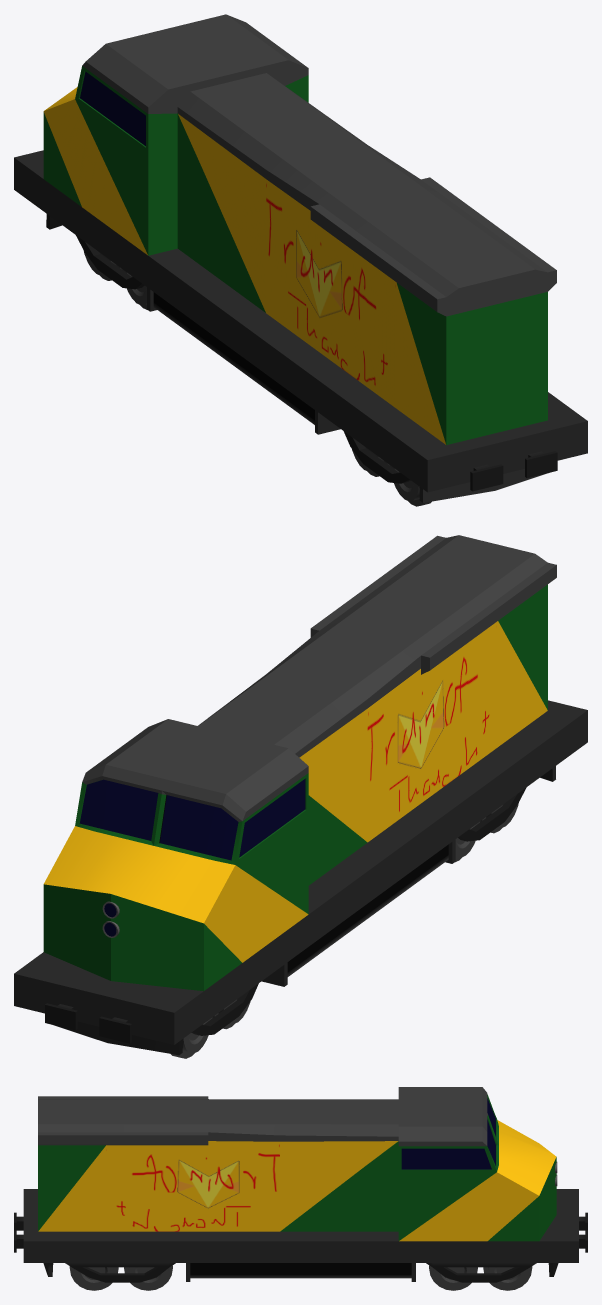
The model's file is freightlocomotive.fbx.
3 renders of one model, top to bottom at view 1: azimuth 30°, elevation 25°; view 2: azimuth 150°, elevation 25°; view 3: azimuth 270°, elevation 25°, orthographic. The views are drawn at different scales.
Visible parts, largest first — view 1: freightlocomotive, BackBogey, FrontBogey; view 2: freightlocomotive, FrontBogey, BackBogey; view 3: freightlocomotive, BackBogey, FrontBogey, BRBackBogey, FRFrontBogey, FRBackBogey, BRFrontBogey.
Boxes of the visible parts, x1=… form: freightlocomotive: x1=14, y1=14, x2=587, y2=492; BackBogey: x1=344, y1=431, x2=549, y2=502; FrontBogey: x1=46, y1=214, x2=144, y2=289; freightlocomotive: x1=14, y1=535, x2=587, y2=1044; FrontBogey: x1=54, y1=983, x2=258, y2=1055; BackBogey: x1=458, y1=766, x2=555, y2=841; freightlocomotive: x1=14, y1=1087, x2=587, y2=1281; BackBogey: x1=43, y1=1263, x2=175, y2=1282; FrontBogey: x1=426, y1=1263, x2=558, y2=1282; BRBackBogey: x1=69, y1=1266, x2=118, y2=1290; FRFrontBogey: x1=483, y1=1266, x2=532, y2=1290; FRBackBogey: x1=124, y1=1265, x2=172, y2=1290; BRFrontBogey: x1=429, y1=1265, x2=477, y2=1290.
Size of the model in its own units: 260 by 391 by 1201.
